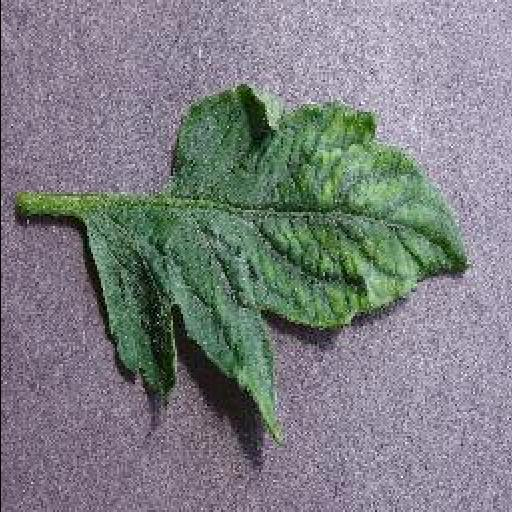disease_tomato: (80, 77, 476, 443)
